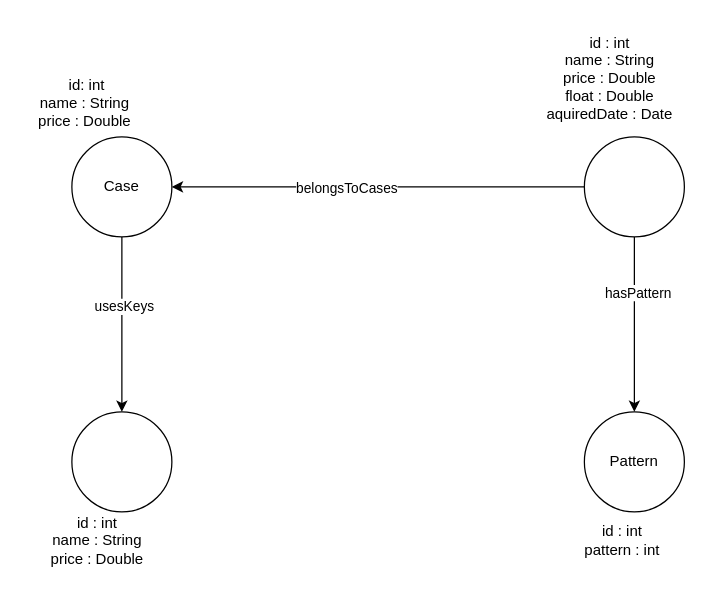
This 706x599 diagram has some shape labels left out. The shapes that lost their labels are listed below. From the top down, each one's centre as x and y in pixels, then its label:
(x=633, y=186): Skin
(x=121, y=461): Key
